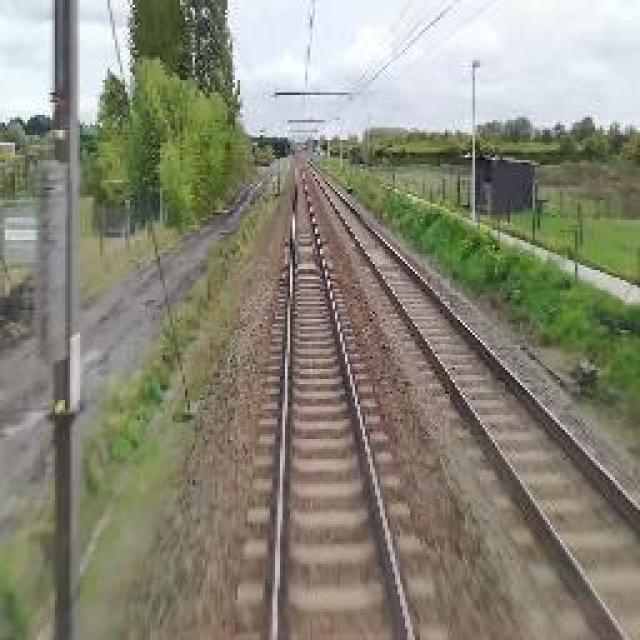rail: (240, 159, 451, 640)
